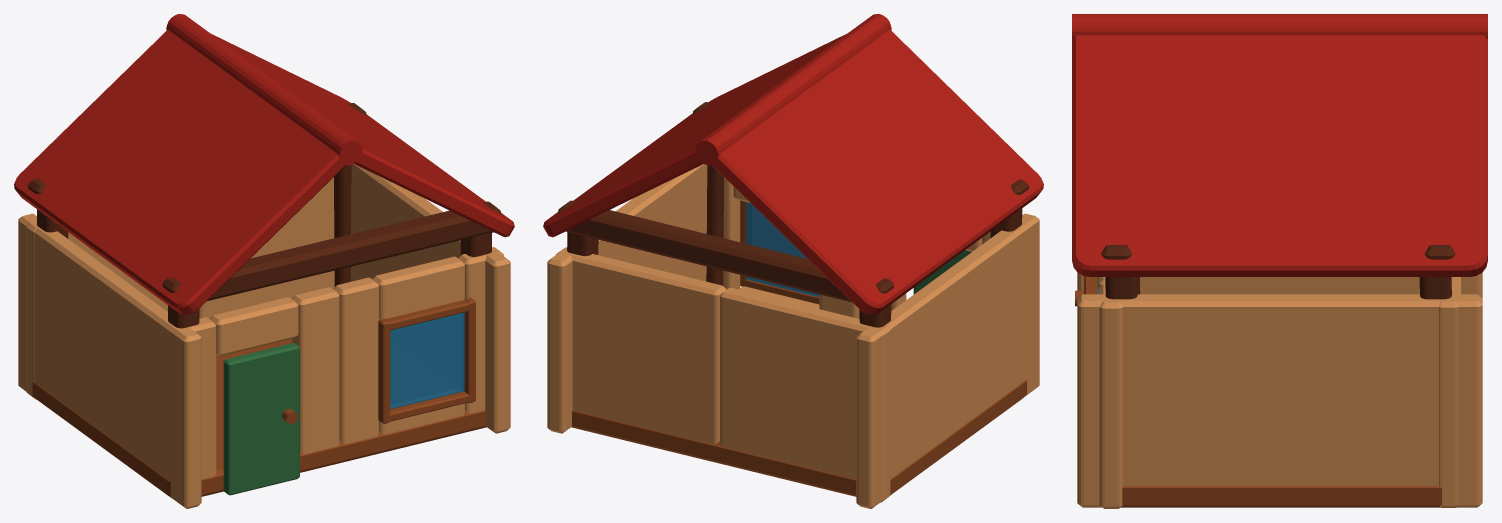
File: OVERBUILD_ClayHouse_Demo.obj
The picture shows the model from 3 angles, left to right: view 1: azimuth 30°, elevation 25°; view 2: azimuth 150°, elevation 25°; view 3: azimuth 270°, elevation 25°; orthographic projection. The views are drawn at different scales.
Parts seen in each view (by area): view 1: Roof_Left, SideWall, FrontDoor_Door, Roof_Right, TopBeam, Floor_4x3, BackWall, FrontDoor_R, FrontWindow_L, FrontWindow_Glass, Roof_Ridge, FrontWindow_Frame (+7 smaller); view 2: Roof_Left, BackWall, SideWall, Roof_Right, TopBeam, Floor_4x3, Roof_Ridge, FrontWindow_Glass, CornerPost_1.78_-1.38, FrontWindow_R, FrontWindow_Frame, CornerPost_1.78_1.38 (+1 smaller); view 3: Roof_Right, SideWall, Roof_Ridge, Floor_4x3, FrontWindow_R, BackWall, TopBeam, CornerPost_1.78_-1.38, CornerPost_1.78_1.38.
Part boxes in pixels (bbox=[...]): Roof_Left: bbox=[14, 30, 347, 314]; SideWall: bbox=[18, 164, 510, 508]; FrontDoor_Door: bbox=[223, 343, 299, 495]; Roof_Right: bbox=[211, 34, 514, 237]; TopBeam: bbox=[28, 103, 500, 300]; Floor_4x3: bbox=[32, 339, 486, 497]; BackWall: bbox=[26, 177, 334, 399]; FrontDoor_R: bbox=[292, 287, 339, 454]; FrontWindow_L: bbox=[333, 277, 378, 443]; FrontWindow_Glass: bbox=[390, 312, 464, 409]; Roof_Ridge: bbox=[166, 14, 362, 165]; FrontWindow_Frame: bbox=[378, 297, 475, 423]; Roof_Left: bbox=[710, 30, 1043, 314]; BackWall: bbox=[556, 247, 890, 502]; SideWall: bbox=[547, 164, 1039, 508]; Roof_Right: bbox=[543, 34, 846, 237]; TopBeam: bbox=[558, 102, 1028, 302]; Floor_4x3: bbox=[571, 380, 1026, 496]; Roof_Ridge: bbox=[695, 14, 891, 165]; FrontWindow_Glass: bbox=[746, 202, 819, 296]; CornerPost_1.78_-1.38: bbox=[706, 165, 723, 285]; FrontWindow_R: bbox=[723, 177, 740, 289]; FrontWindow_Frame: bbox=[740, 200, 819, 304]; CornerPost_1.78_1.38: bbox=[567, 232, 598, 256]; Roof_Right: bbox=[1072, 35, 1487, 276]; SideWall: bbox=[1077, 272, 1482, 507]; Roof_Ridge: bbox=[1072, 14, 1487, 38]; Floor_4x3: bbox=[1121, 486, 1441, 507]; FrontWindow_R: bbox=[1099, 283, 1123, 508]; BackWall: bbox=[1439, 277, 1460, 507]; TopBeam: bbox=[1101, 245, 1455, 277]; CornerPost_1.78_-1.38: bbox=[1105, 277, 1137, 299]; CornerPost_1.78_1.38: bbox=[1419, 277, 1451, 299].
Size of the model in its own units: 4.11 by 3.86 by 3.65.
